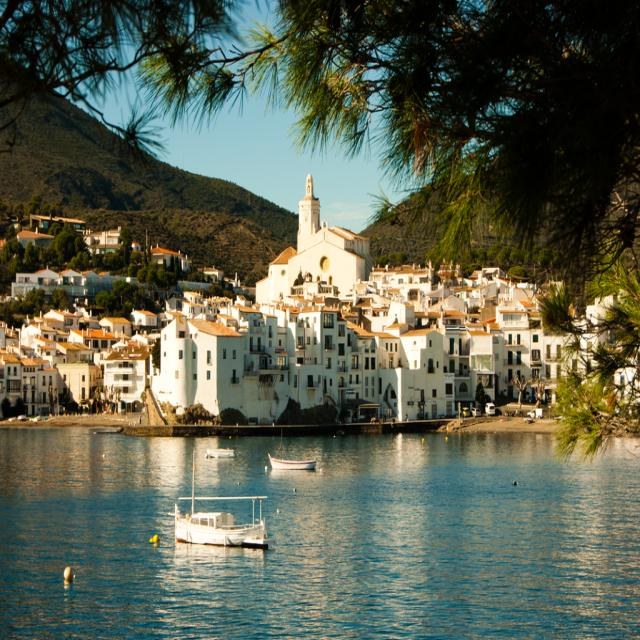Boat: (163, 492, 274, 563), (269, 436, 317, 473), (207, 447, 235, 459)
